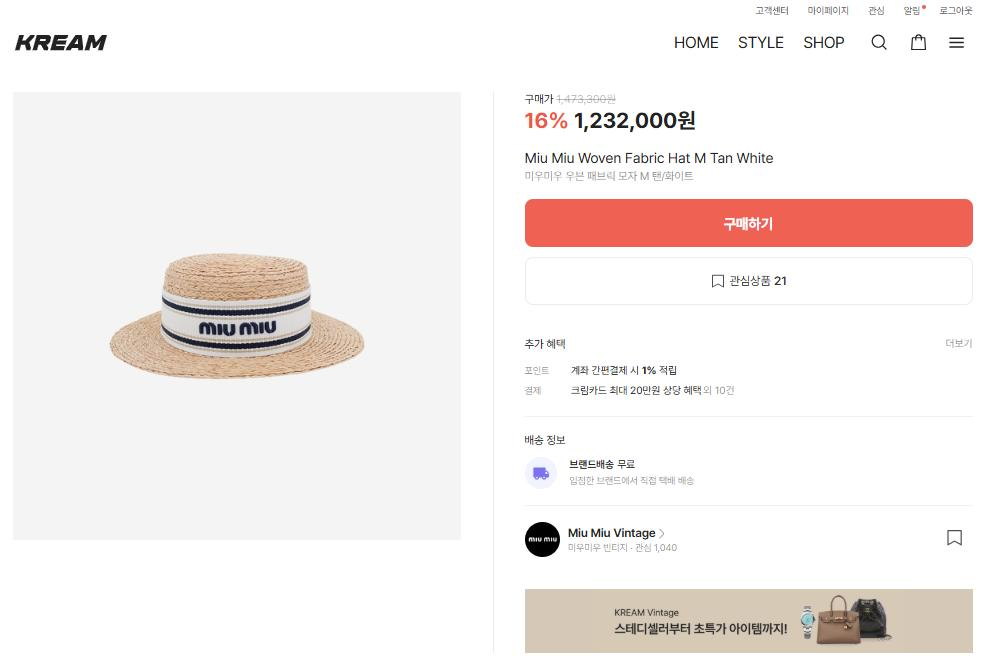button: (525, 198, 975, 248), (524, 257, 974, 307), (672, 26, 720, 55), (733, 30, 787, 53), (801, 31, 850, 53), (808, 0, 855, 20), (755, 0, 793, 20), (937, 1, 975, 21), (861, 1, 891, 21), (865, 33, 890, 56), (906, 32, 931, 55), (942, 32, 966, 52), (905, 3, 925, 23)
popup: (522, 589, 974, 656)
